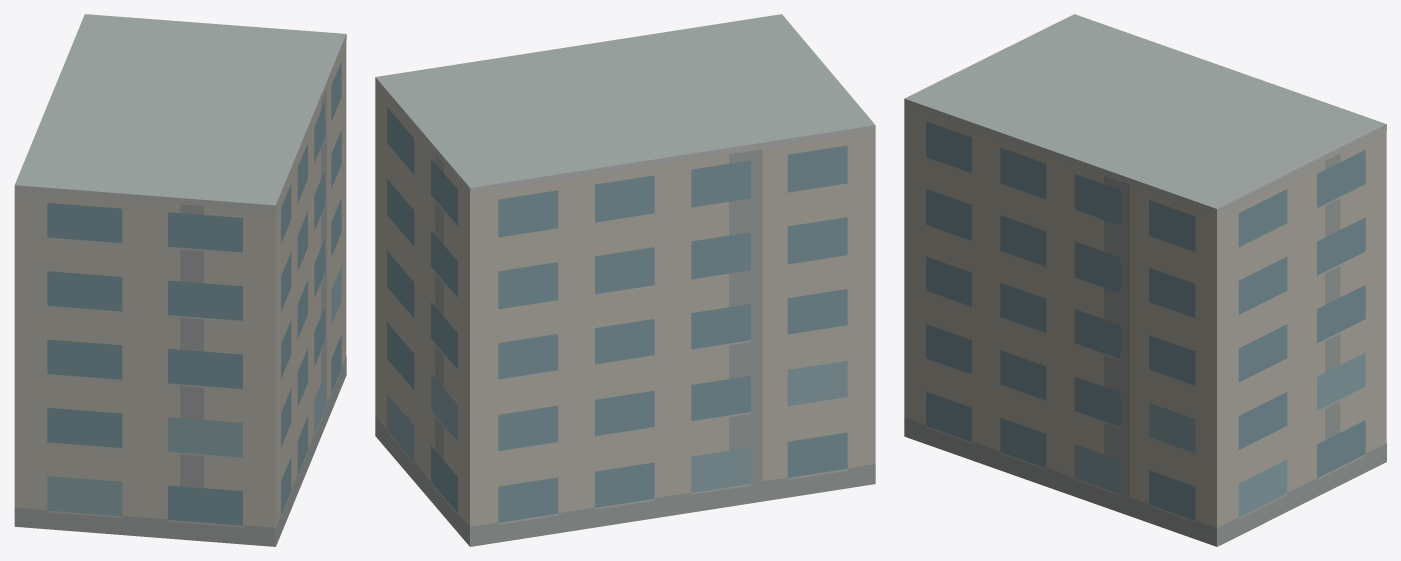
The model's file is survey-upis-32981527.glb.
The picture shows the model from 3 angles, left to right: view 1: azimuth 30°, elevation 25°; view 2: azimuth 150°, elevation 25°; view 3: azimuth 270°, elevation 25°; orthographic projection. The views are drawn at different scales.
Parts seen in each view (by area): view 1: survey-upis-32981527.tmp; view 2: survey-upis-32981527.tmp; view 3: survey-upis-32981527.tmp.
Boxes of the visible parts, bbox=[...] form: survey-upis-32981527.tmp: bbox=[14, 14, 346, 546]; survey-upis-32981527.tmp: bbox=[375, 14, 875, 546]; survey-upis-32981527.tmp: bbox=[904, 14, 1386, 546].
Bounding box in the file's own units: 16.35 × 13.2 × 17.09.
